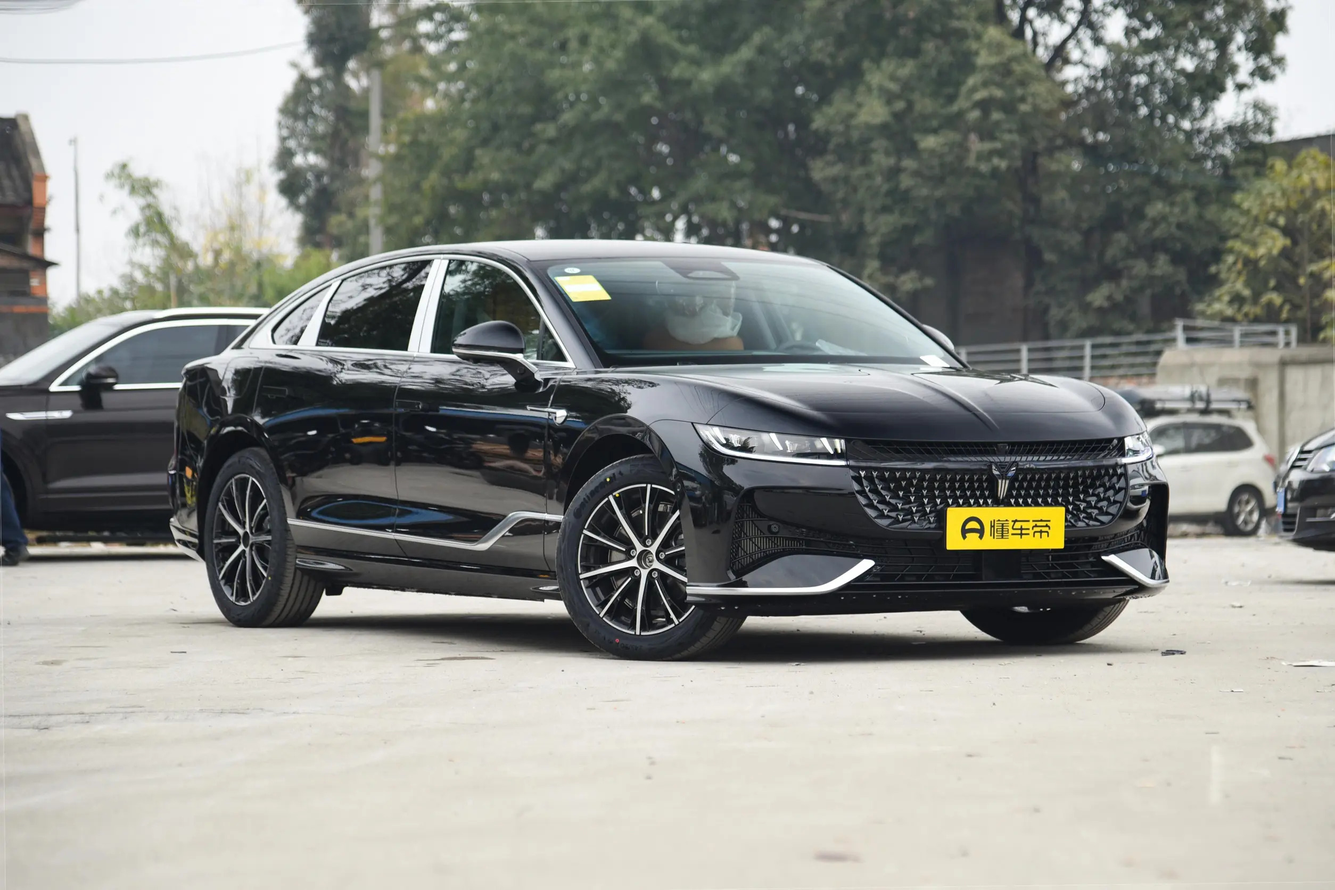VOYAH: (992, 465, 1016, 502)
